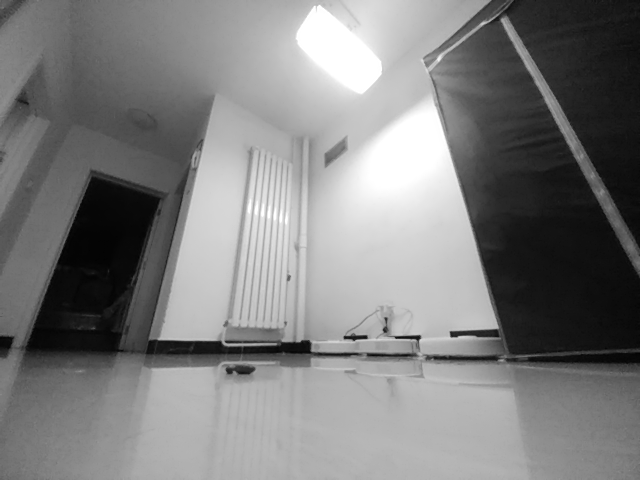pet feces: (224, 363, 258, 377)
